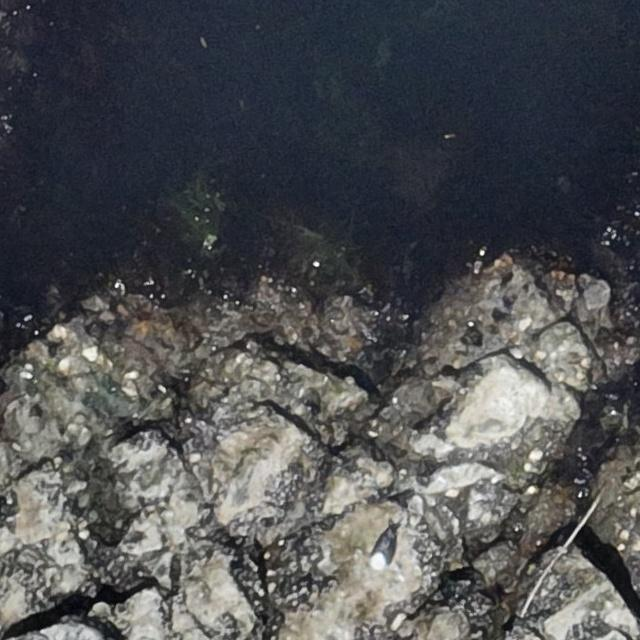umineko: (371, 527, 398, 571)
